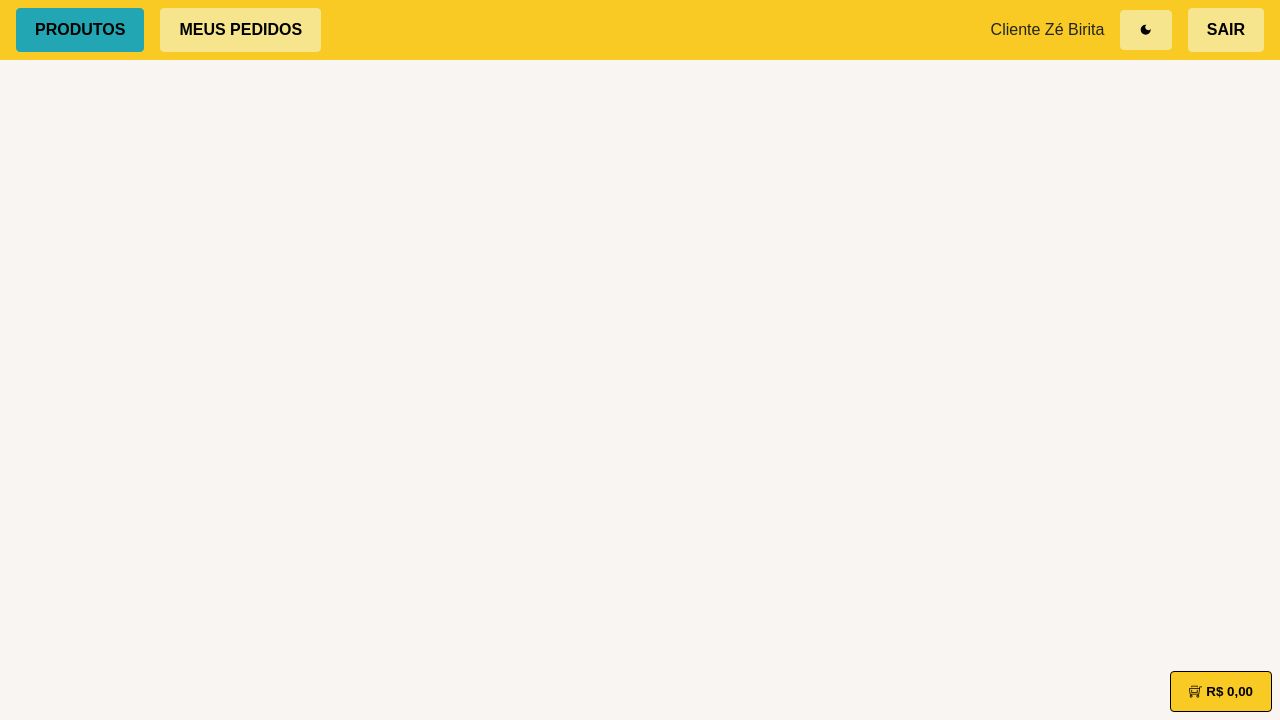
Scenario: Customer Products Page › Test "meus pedidos" button › should redirect to customer/orders
What coordinates should you click on to do the following:
click the button "Meus Pedidos"
I would click on:
 (241, 30)
Its box is top-left (160, 8), bottom-right (321, 52).
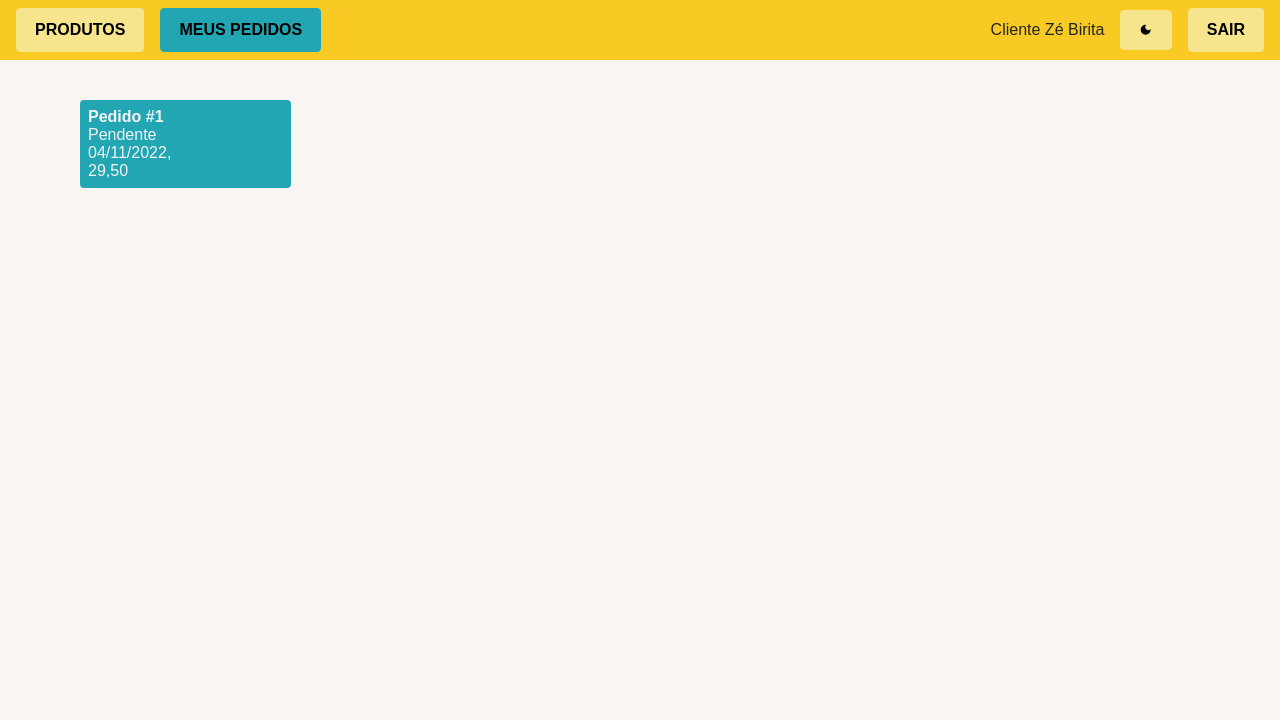
Result: the text "1" is shown at top-left (155, 108), bottom-right (164, 125)
